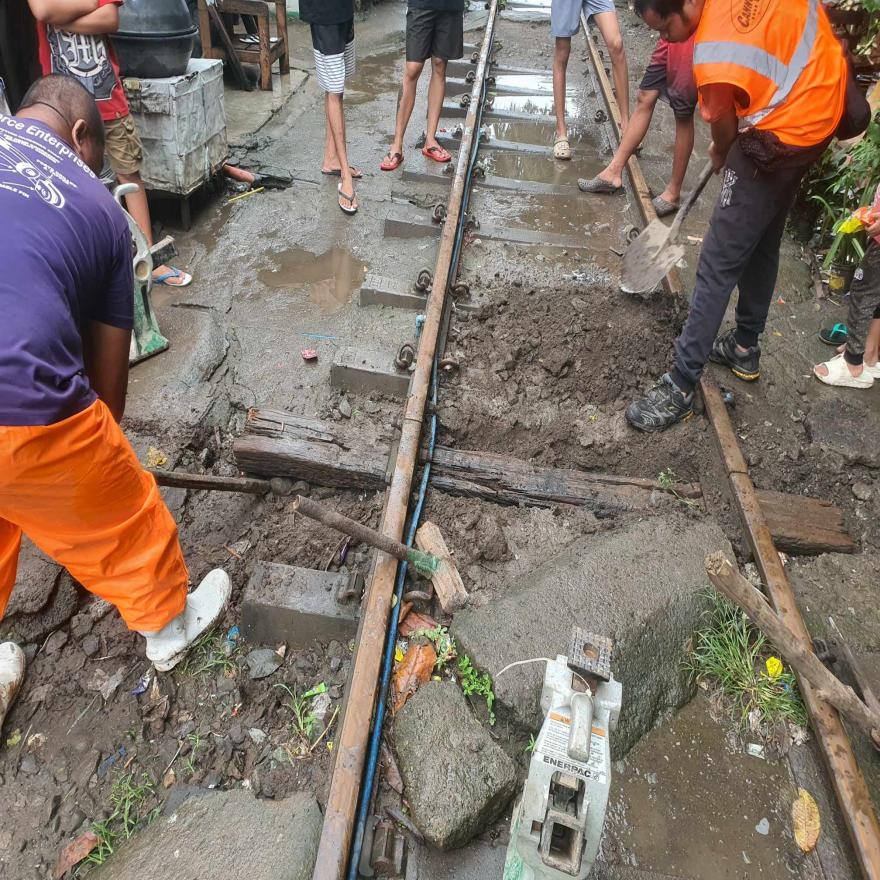railway-gap: (384, 387, 438, 454), (717, 442, 762, 504)
